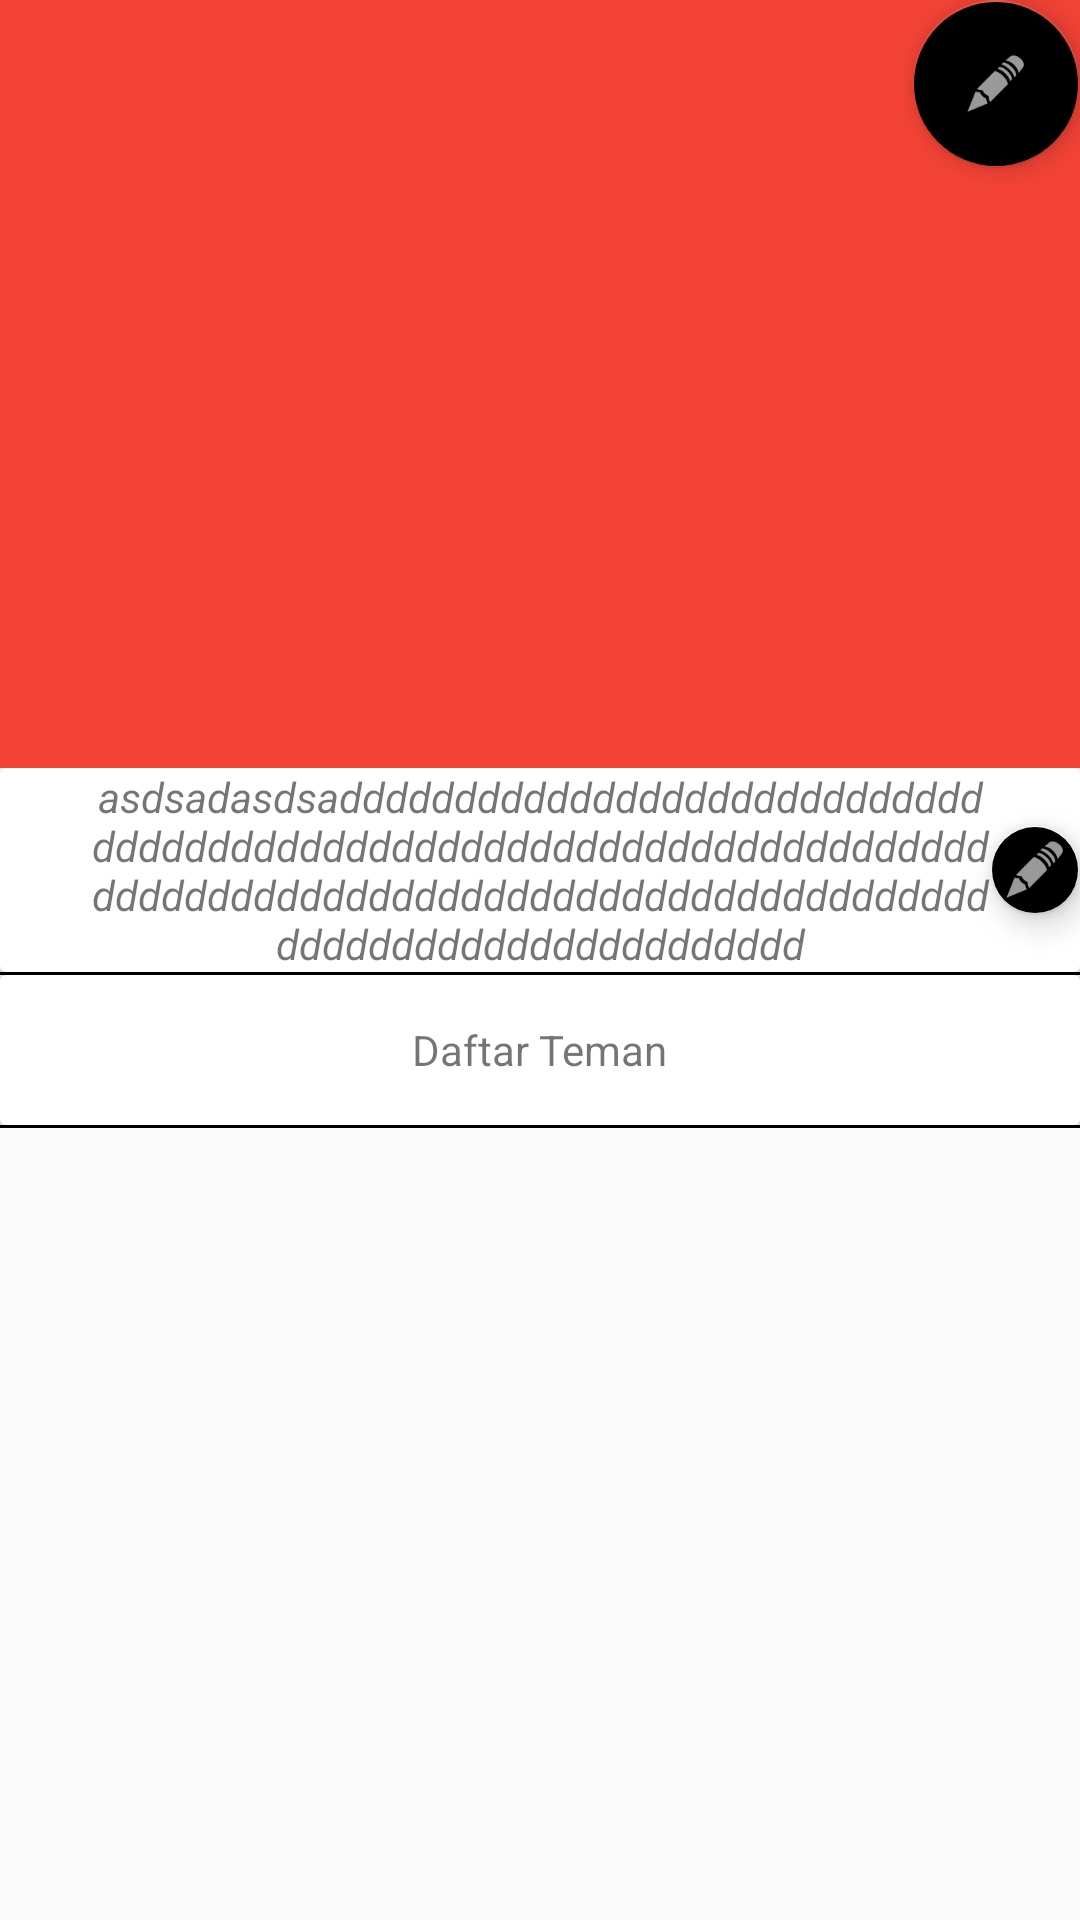

Icon bounding boxes for this 1080x1920 phone screenshot, format (x1, y1, x2, y2):
edit: (914, 0, 1080, 168), (992, 827, 1079, 915)
